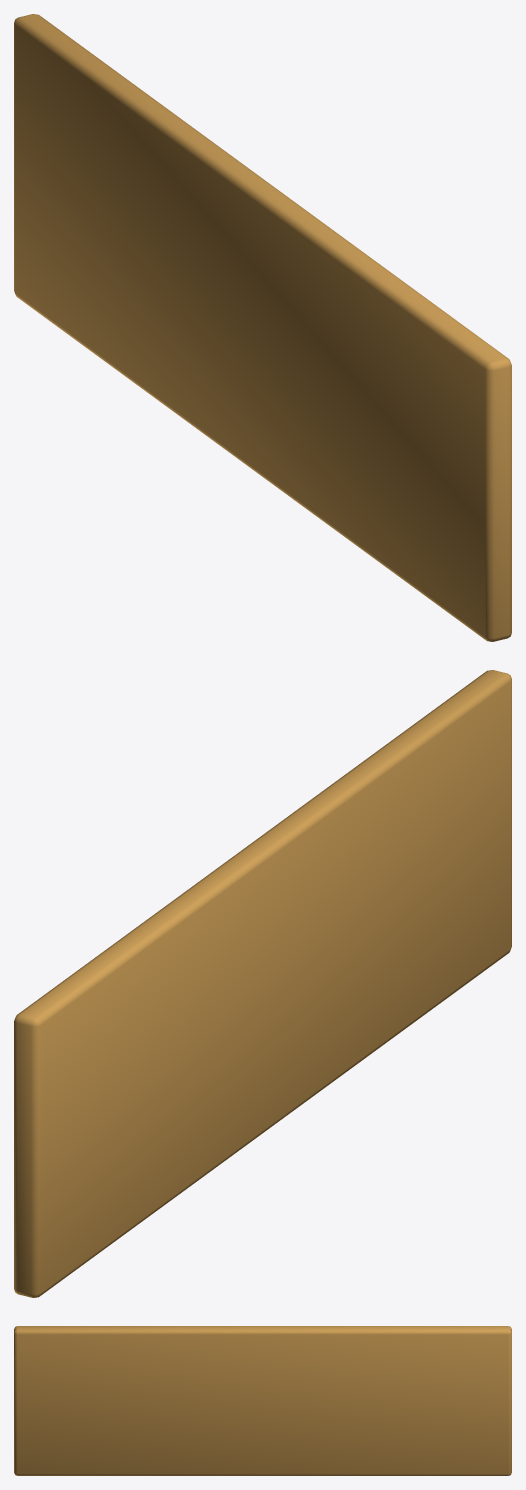
Rendered from S_PlaqueRepresentant.fbx.
3 views of the same model, one above another, from view 1: azimuth 30°, elevation 25°; view 2: azimuth 150°, elevation 25°; view 3: azimuth 270°, elevation 25° (orthographic). The views are drawn at different scales.
Parts seen in each view (by area): view 1: Cube.003; view 2: Cube.003; view 3: Cube.003.
Boxes of the visible parts, box(x1,y1,x2,y2) form: Cube.003: box(14, 14, 511, 641); Cube.003: box(14, 670, 511, 1297); Cube.003: box(14, 1326, 511, 1475).
Bounding box in the file's own units: 0.8544 × 8.76 × 27.06.
